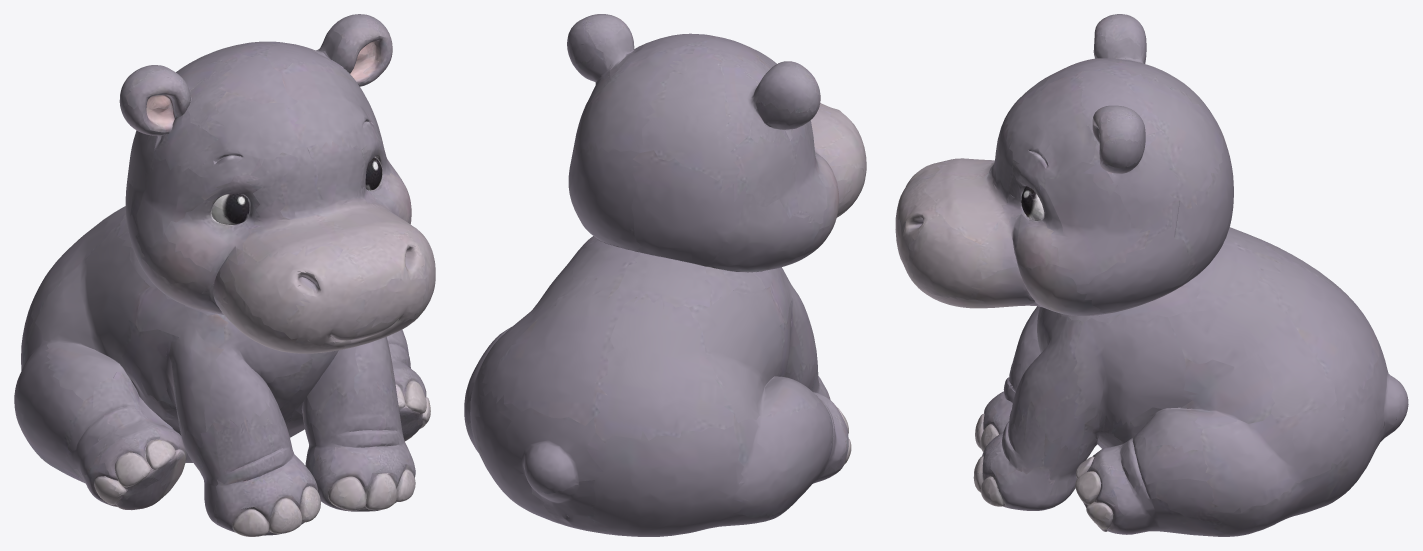
3 renders of one model, left to right at view 1: azimuth 30°, elevation 25°; view 2: azimuth 150°, elevation 25°; view 3: azimuth 270°, elevation 25°, orthographic. The views are drawn at different scales.
Visible parts, largest first — view 1: output_unwrapped; view 2: output_unwrapped; view 3: output_unwrapped.
Boxes of the visible parts, bbox=[...] form: output_unwrapped: bbox=[14, 14, 435, 536]; output_unwrapped: bbox=[464, 14, 866, 536]; output_unwrapped: bbox=[895, 14, 1408, 536].
Size of the model in its own units: 1.42 by 1.67 by 1.9.
1 material, 1 textured.
